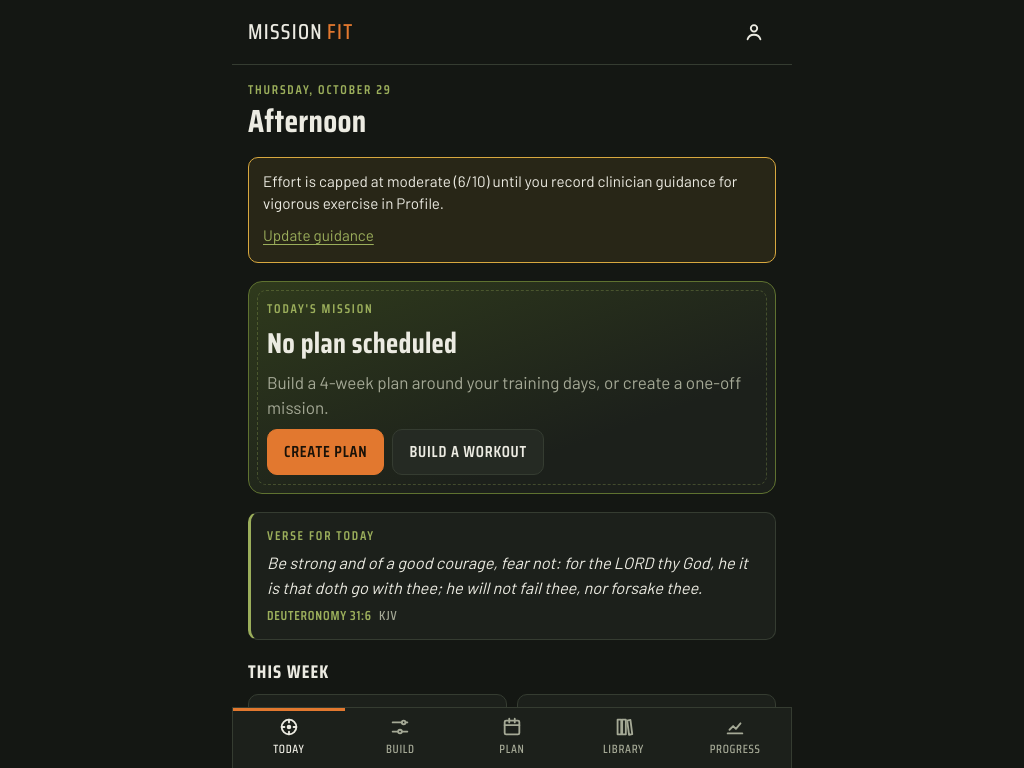
Test case: exercise examples › shows "Watch an example" in the mission brief and the library
What coordinates should you click on to do the following:
click the button "Build"
I would click on:
 (400, 738)
Its box is x1=345 y1=708 x2=456 y2=767.
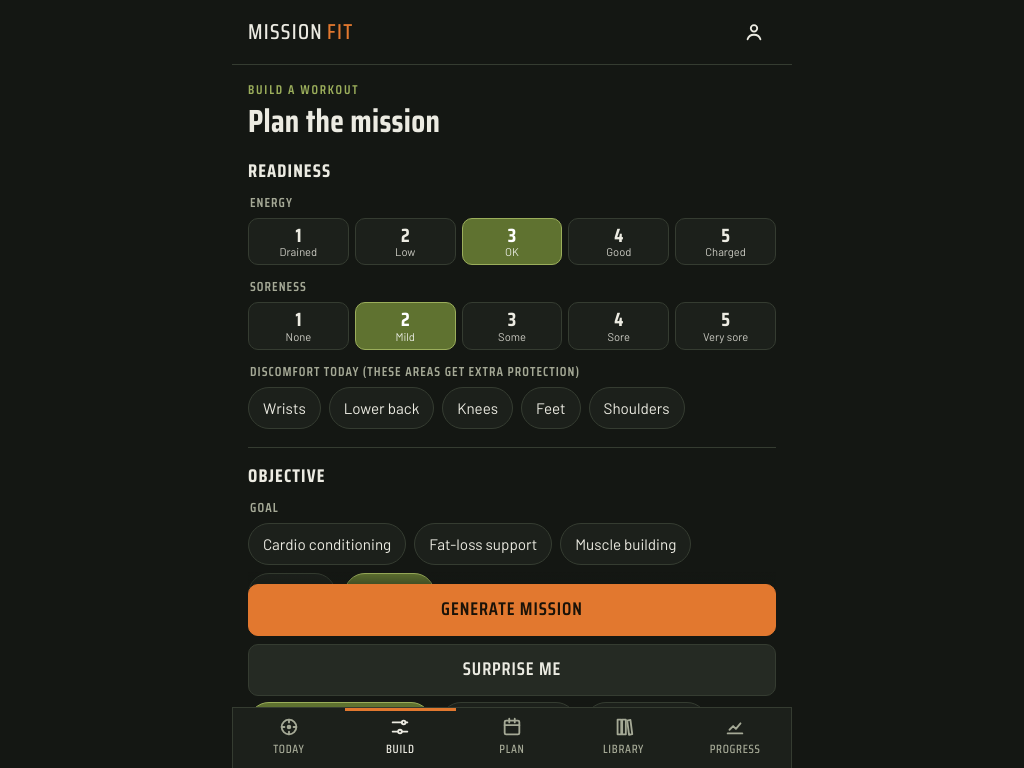
What coordinates should you click on to do the following:
click the button "Generate mission"
I would click on:
 (512, 610)
Its box is x1=248 y1=584 x2=776 y2=636.
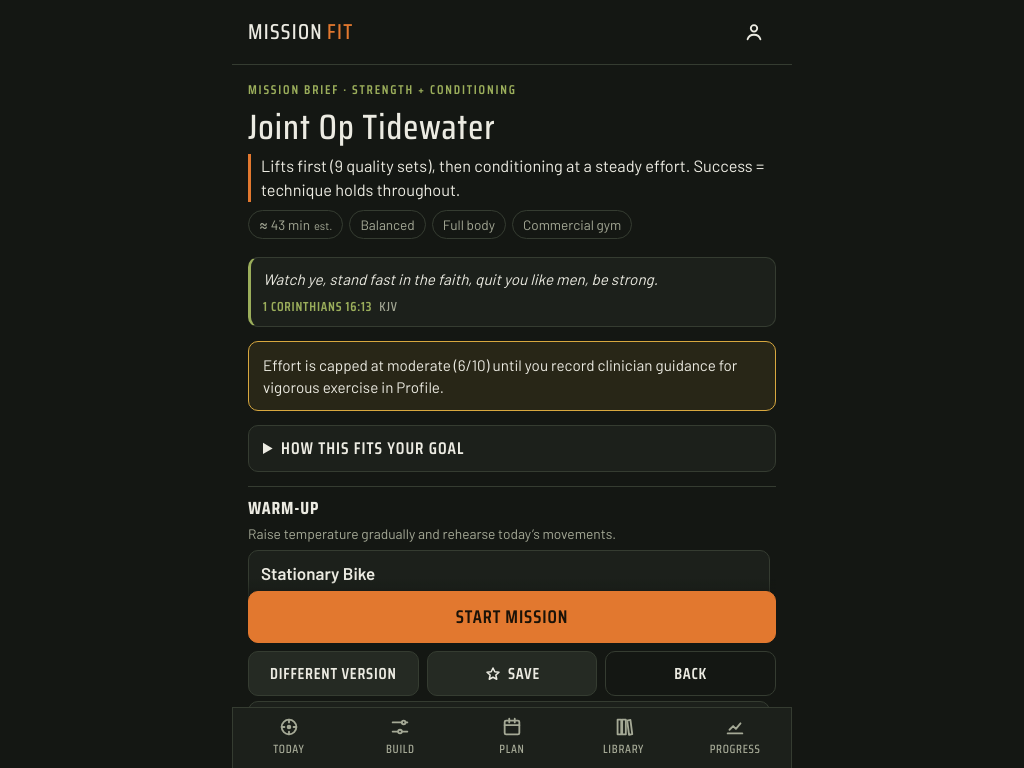
What coordinates should you click on to do the following:
click the button "Back"
I would click on:
 (691, 673)
Its box is x1=605 y1=651 x2=776 y2=696.
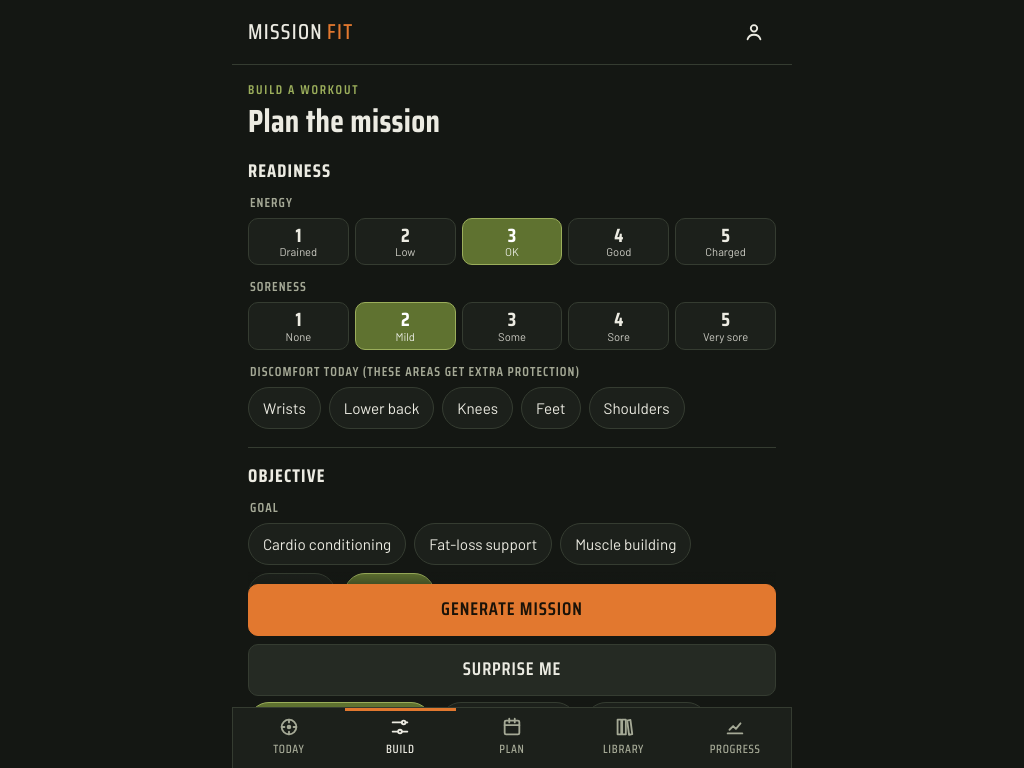
What coordinates should you click on to do the following:
click the button "Library"
I would click on:
 (624, 738)
Its box is x1=568 y1=708 x2=679 y2=767.
(page scrolled)
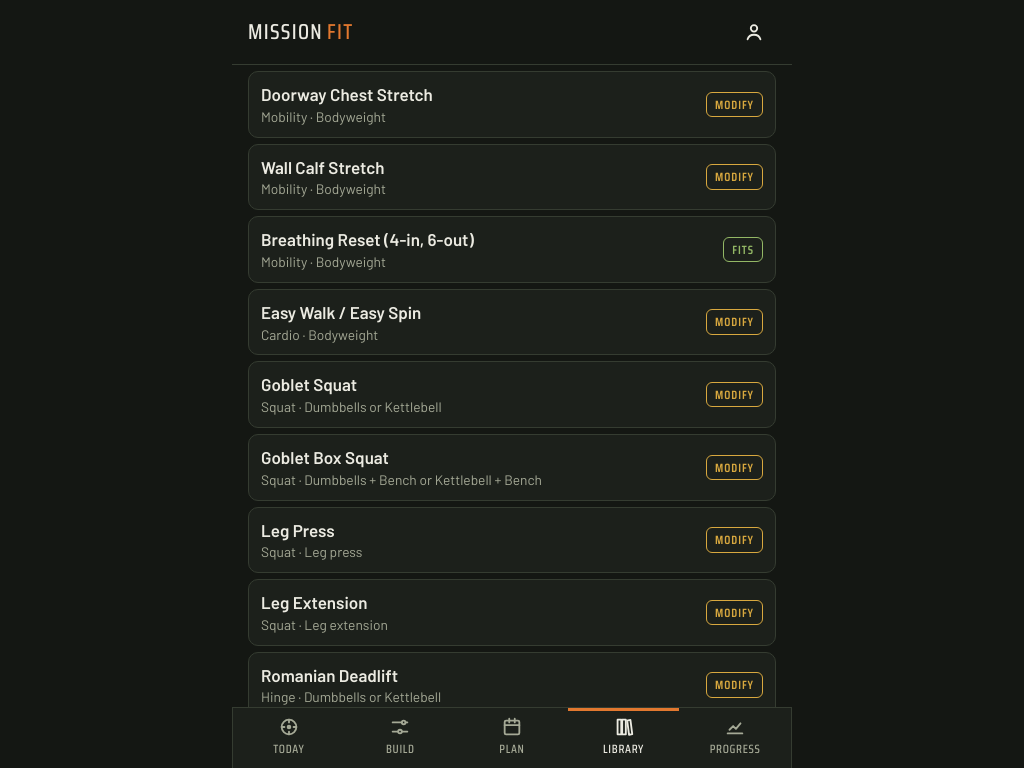
What coordinates should you click on to do the following:
click the text "Goblet Squat"
I would click on:
 (309, 384)
Its box is x1=261 y1=374 x2=357 y2=394.
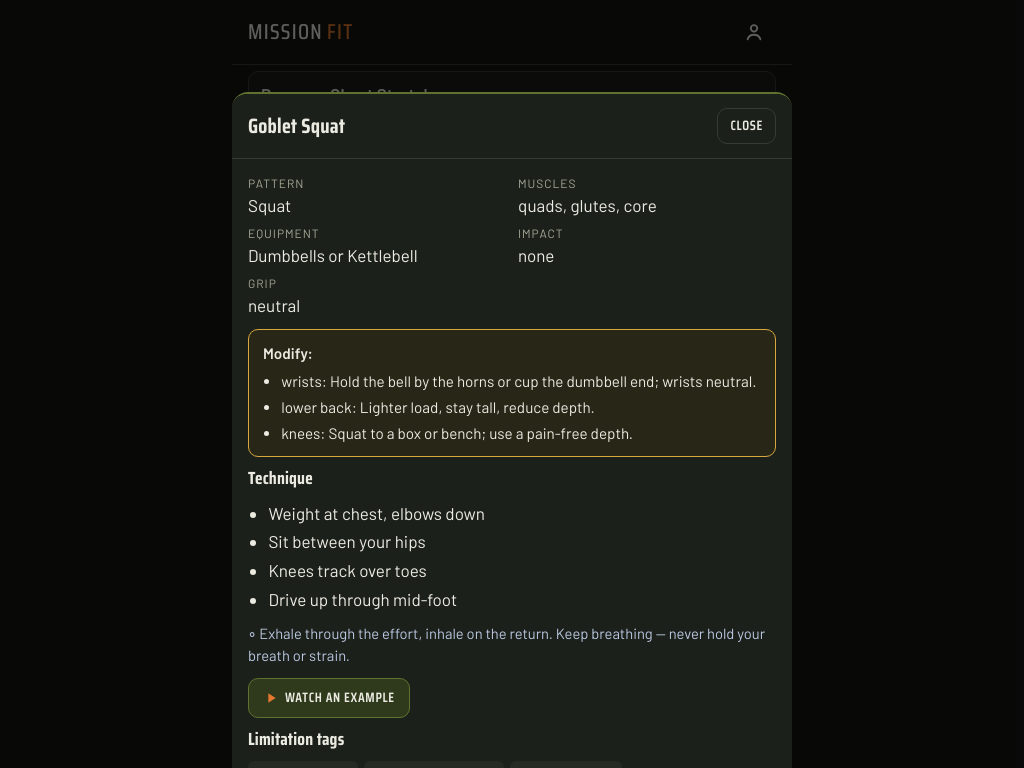
Now the link with aria-label "Watch an example of Goblet Squat (opens YouTube)" is shown, box x1=248 y1=678 x2=410 y2=718
